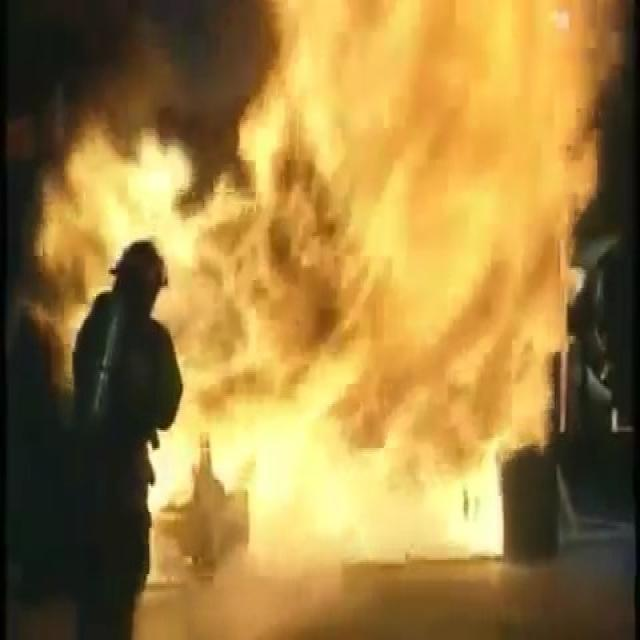Fire: (21, 6, 618, 406)
